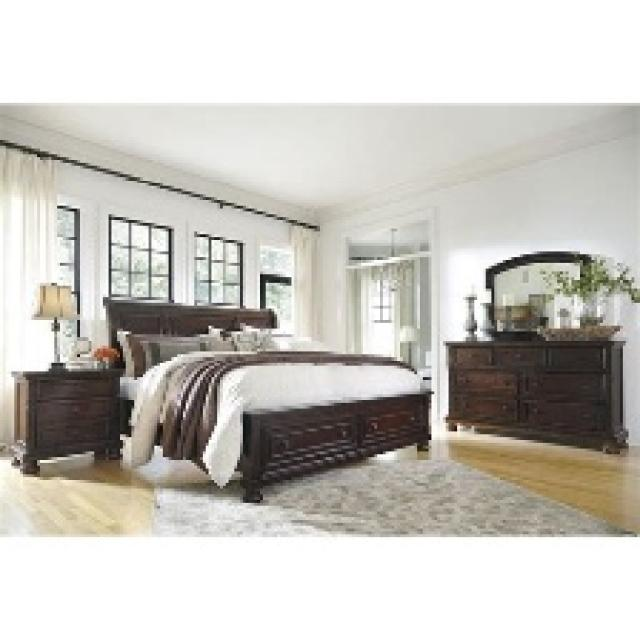bed: (100, 292, 454, 506)
cabinet: (443, 233, 633, 448)
drawer: (16, 362, 131, 477)
lamp: (30, 278, 84, 375)
